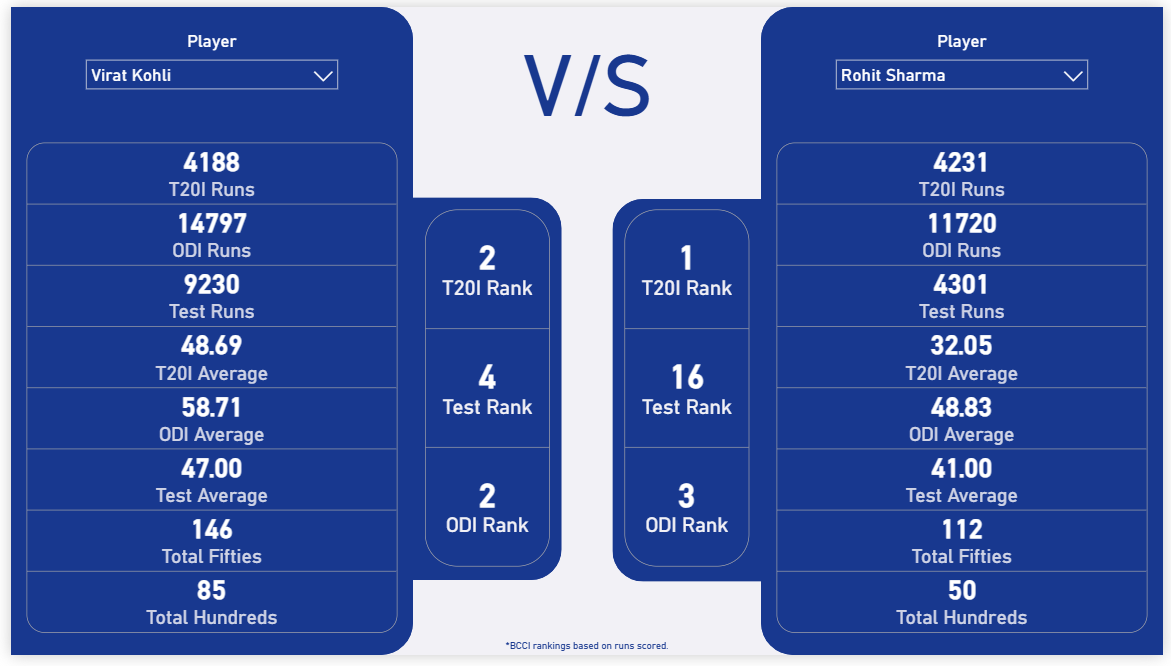

What the dashboard file says about the page in this screenshot:
{"tool":"powerbi","page":{"name":"Player Comparison","canvas":[1280,720],"ordinal":3},"visuals":[{"type":"shape","box":[669,211.7,610.4,425.2],"z":0},{"type":"shape","box":[0,211.7,611.7,425],"z":1000},{"type":"shape","box":[0.4,0,446.7,720],"z":3000},{"type":"cardVisual","fields":{"Data":["Sum(Player_Data.T20I_Runs)","Sum(Player_Data.ODI_Runs)","Sum(Player_Data.Test_Runs)","Sum(Player_Data.T20I_Average)","Sum(Player_Data.ODI_Average)","Sum(Player_Data.Test_Average)","Player_Data.Total_Fifties","Player_Data.Total_Hundreds"]},"box":[0,133.3,446.7,586.7],"z":4000},{"type":"shape","box":[833.3,0,446.7,720],"z":5000},{"type":"textbox","box":[446.7,26.7,386.7,150],"z":6000},{"type":"slicer","title":"Player","fields":{"Values":["Player_Data.Player"]},"box":[73.3,26.7,300,80],"z":7000},{"type":"slicer","title":"Player","fields":{"Values":["Player_Data.Player"]},"box":[906.7,26.7,300,80],"z":8000},{"type":"textbox","box":[538.5,695.4,203.1,24.6],"z":9000},{"type":"cardVisual","fields":{"Data":["Max(Player_Data.T20I_Rank)","Max(Player_Data.ODI_Rank)","Max(Player_Data.Test_Rank)"]},"box":[446,211.7,166.3,425.2],"z":10000},{"type":"cardVisual","fields":{"Data":["Sum(Player_Data.T20I_Runs)","Sum(Player_Data.ODI_Runs)","Sum(Player_Data.Test_Runs)","Sum(Player_Data.T20I_Average)","Sum(Player_Data.ODI_Average)","Sum(Player_Data.Test_Average)","Player_Data.Total_Fifties","Player_Data.Total_Hundreds"]},"box":[831.5,134.2,447.9,585.8],"z":11000},{"type":"cardVisual","fields":{"Data":["Max(Player_Data.T20I_Rank)","Max(Player_Data.ODI_Rank)","Max(Player_Data.Test_Rank)"]},"box":[669,211.7,166.3,425.2],"z":12000}]}

Visuals, with their boxes in screenshot pixels (x1, y1, x2, y2), scaled from the page's 1280x720 canvas onto the 1171x666 screenshot:
shape: (left=612, top=196, right=1170, bottom=589)
shape: (left=0, top=196, right=560, bottom=589)
shape: (left=0, top=0, right=409, bottom=665)
cardVisual - Sum(Player_Data.T20I_Runs) x Sum(Player_Data.ODI_Runs): (left=0, top=123, right=409, bottom=665)
shape: (left=762, top=0, right=1170, bottom=665)
textbox: (left=409, top=25, right=762, bottom=163)
"Player" slicer: (left=67, top=25, right=342, bottom=99)
"Player" slicer: (left=829, top=25, right=1104, bottom=99)
textbox: (left=493, top=643, right=678, bottom=665)
cardVisual - Max(Player_Data.T20I_Rank) x Max(Player_Data.ODI_Rank): (left=408, top=196, right=560, bottom=589)
cardVisual - Sum(Player_Data.T20I_Runs) x Sum(Player_Data.ODI_Runs): (left=761, top=124, right=1170, bottom=665)
cardVisual - Max(Player_Data.T20I_Rank) x Max(Player_Data.ODI_Rank): (left=612, top=196, right=764, bottom=589)
